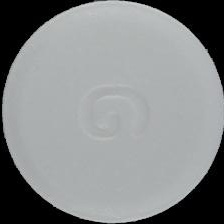63187-199: (0, 0, 224, 224)
